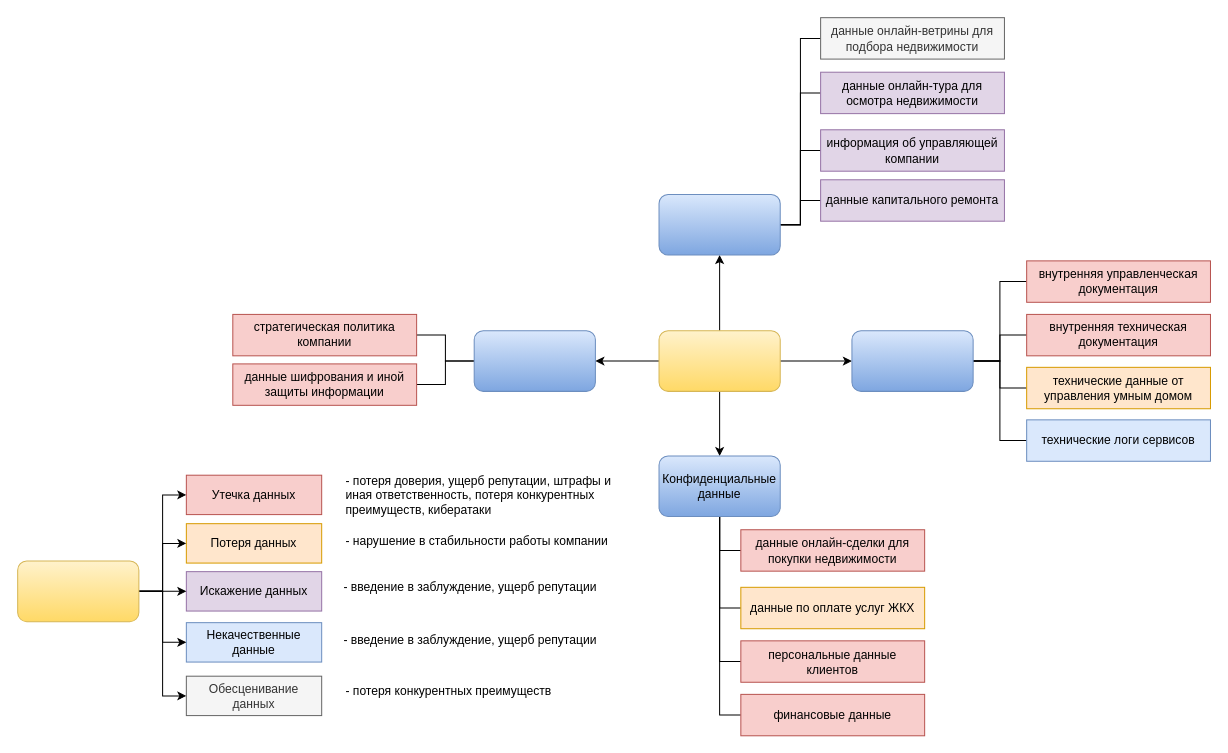
Some shapes in this 1228 by 753 pixel diagram are drawn without their labels. The centre of each missing label's shape, as x and y in pixels:
Безопасность данных: [719,360]
Внутренние данные: [912,360]
Публичные данные: [719,224]
Риски: [78,591]
Секретные данные: [534,360]
